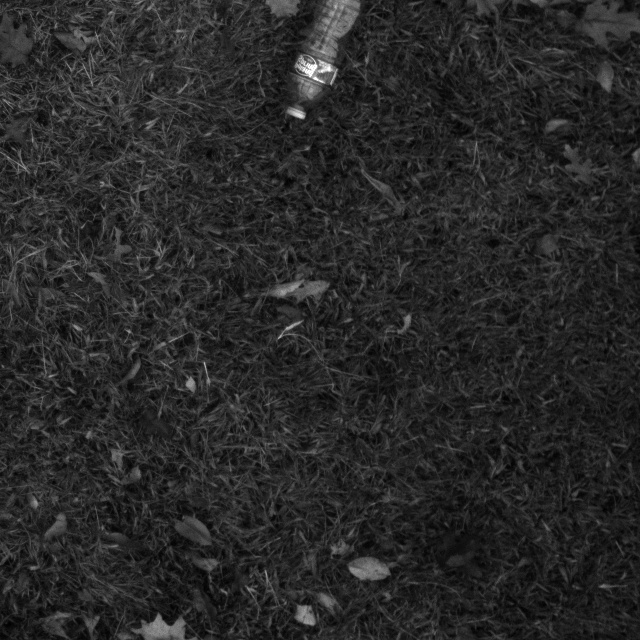bottle: (281, 0, 368, 123)
